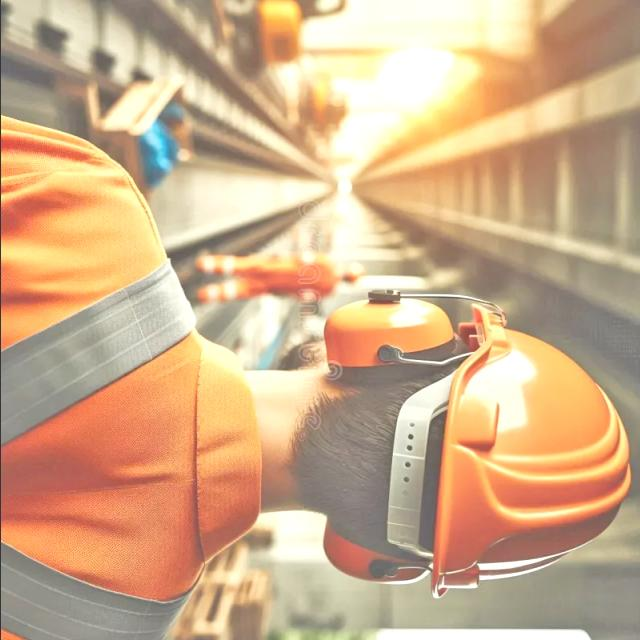Ear Muffs: (307, 287, 476, 387), (309, 515, 439, 593)
Hard Hat: (428, 303, 640, 598)
